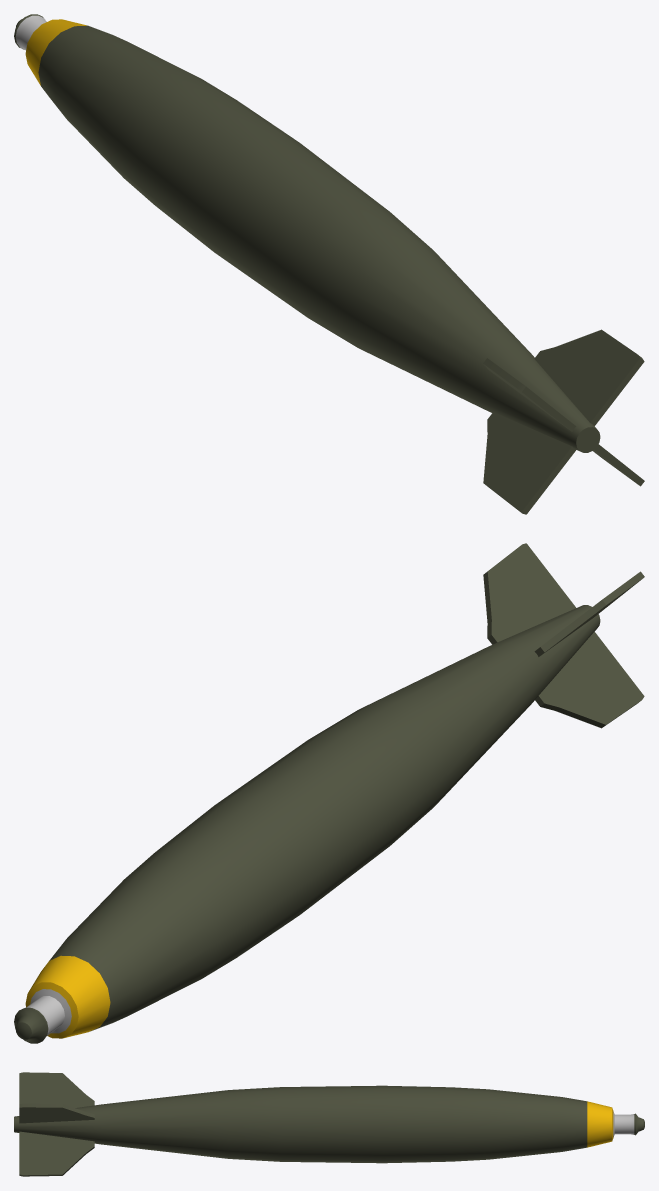
The picture shows the model from 3 angles, top to bottom: view 1: azimuth 30°, elevation 25°; view 2: azimuth 150°, elevation 25°; view 3: azimuth 270°, elevation 25°; orthographic projection. The views are drawn at different scales.
Visible parts, largest first — view 1: mk82; view 2: mk82; view 3: mk82.
Boxes of the visible parts, bbox=[...] form: mk82: bbox=[14, 14, 644, 514]; mk82: bbox=[14, 543, 644, 1043]; mk82: bbox=[14, 1072, 644, 1176].
Size of the model in its own units: 0.2863 by 0.2863 by 2.24.
